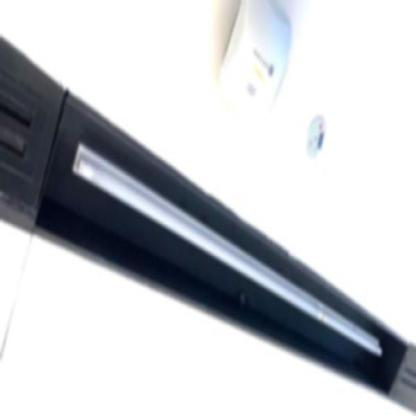light_off: (66, 124, 387, 362)
